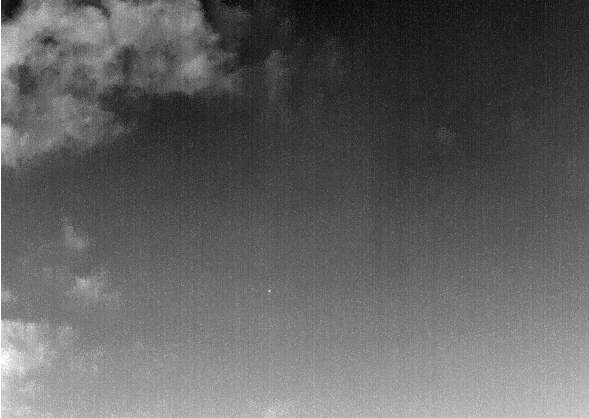dim target: (267, 288, 272, 294)
